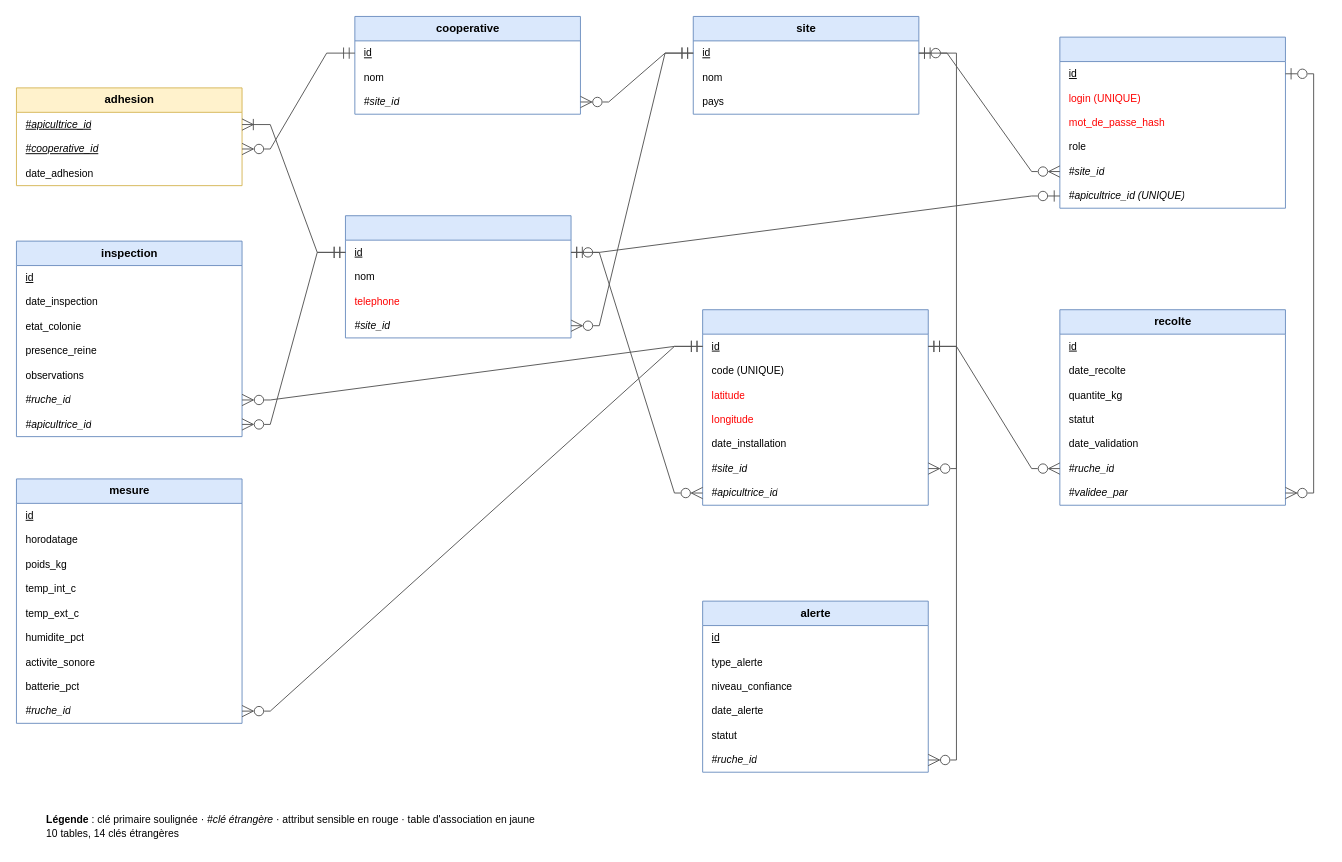
Some shapes in this 1342 by 862 pixel diagram are drawn without their labels. The box of each missing label's shape, as (x1, y1, x2, y2) in pixels:
apicultrice: (345, 215, 571, 338)
ruche: (702, 309, 928, 505)
utilisateur: (1059, 36, 1285, 208)
